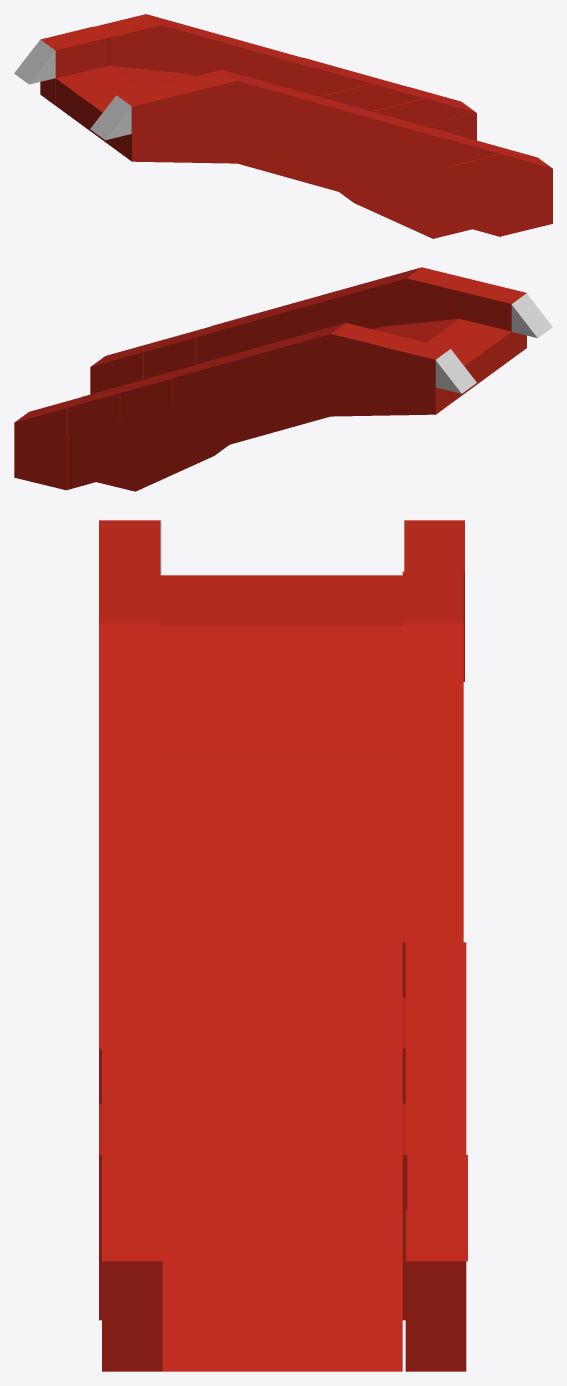
File: Slide.fbx
3 views of the same model, one above another, from view 1: azimuth 30°, elevation 25°; view 2: azimuth 150°, elevation 25°; view 3: azimuth 270°, elevation 25° (orthographic). The views are drawn at different scales.
Parts seen in each view (by area): view 1: slide3; view 2: slide3; view 3: slide3.
Boxes of the visible parts, box(x1,y1,x2,y2) form: slide3: box(14, 14, 552, 238); slide3: box(14, 267, 552, 491); slide3: box(99, 520, 467, 1371).
Size of the model in its own units: 12562 by 5911 by 4486.
